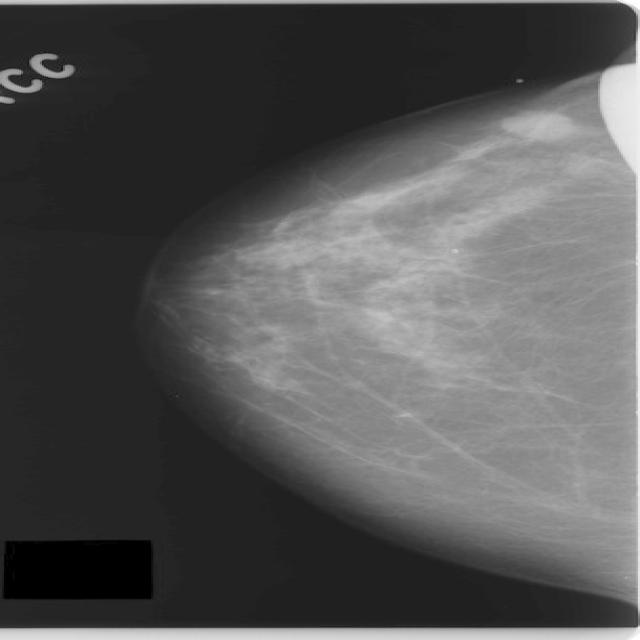tumour: (495, 107, 573, 139)
